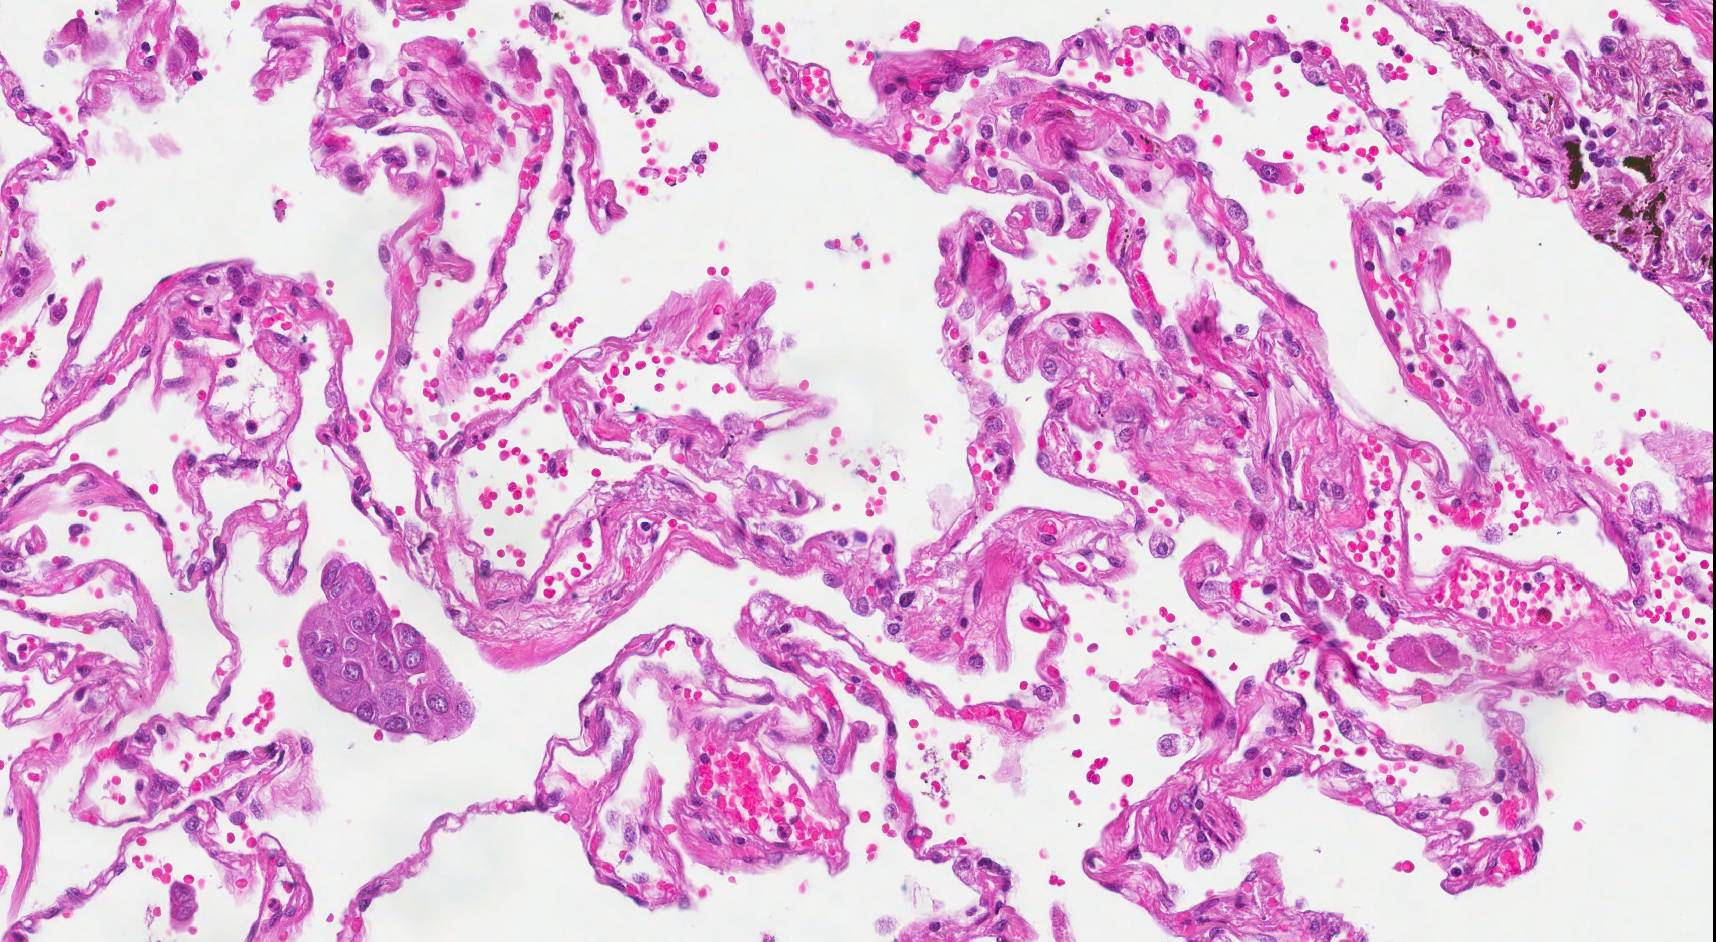stas: (296, 556, 475, 743)
